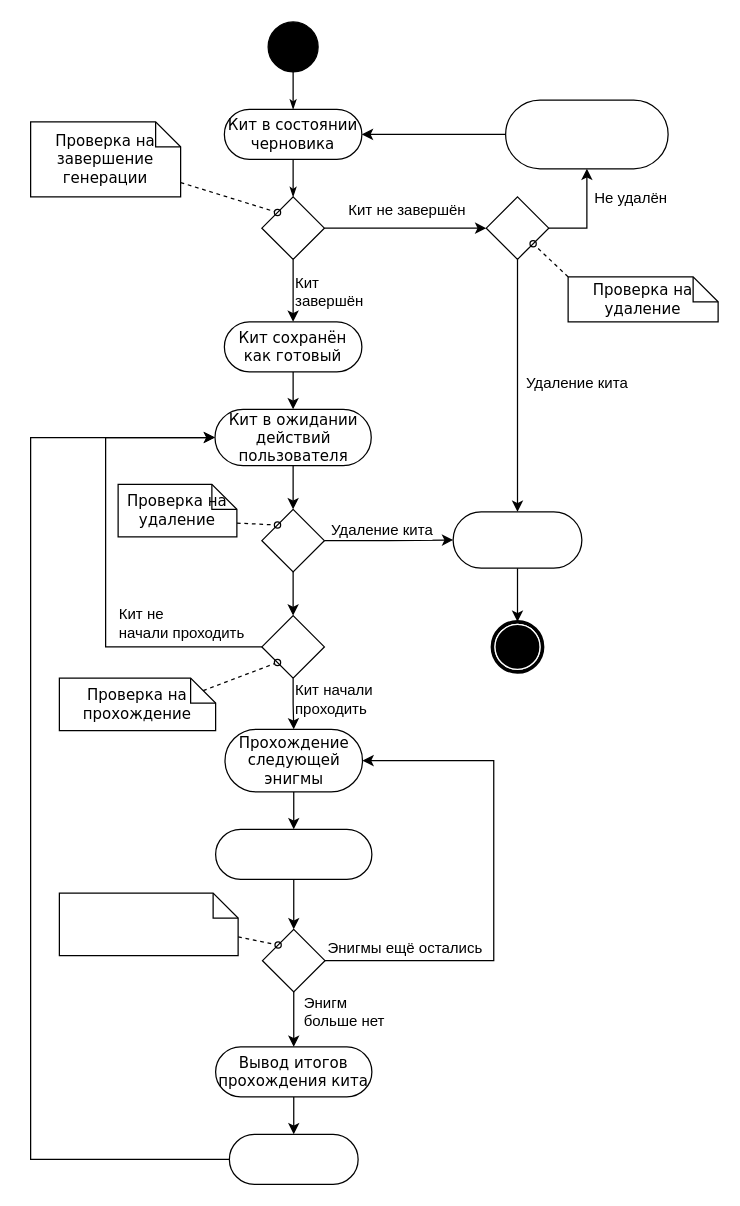
Image size: 740x1206. Some labels were removed from this diagram. Each missing label, with the centre of its shape:
"Вывод приза" goes at (293,1158).
"Кит сохранён для продолжения заполнения" goes at (586,134).
"Получение выходного ключа" goes at (293,853).
"Проверка на отстутсвие непройденных энигм" goes at (148,924).
"Скрыт от пользователя" goes at (517,539).
